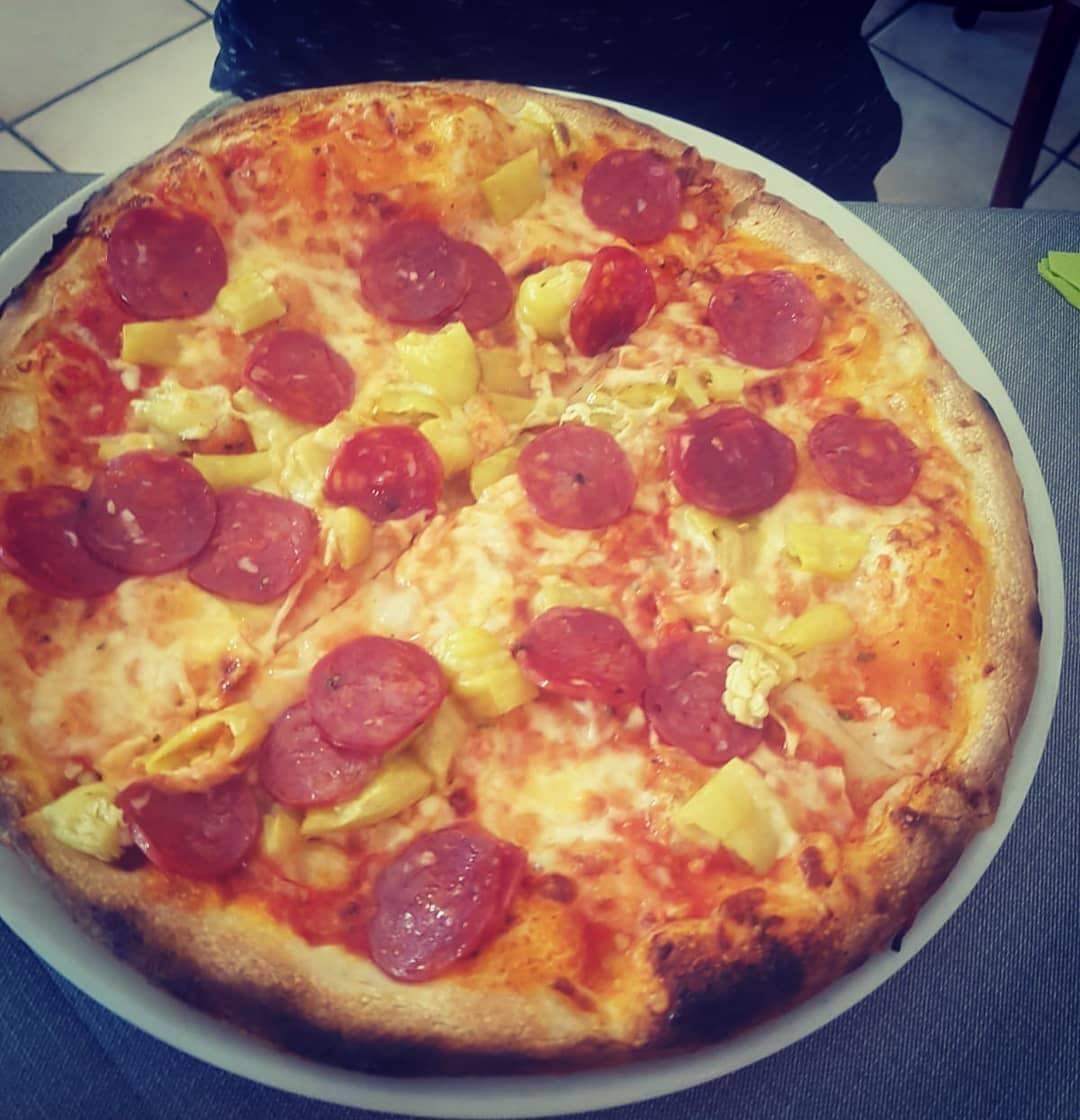Pepperoni: (367, 818, 525, 980), (639, 615, 773, 775), (301, 627, 451, 764), (72, 441, 223, 577), (107, 762, 264, 889), (188, 476, 325, 608), (508, 592, 649, 720), (0, 471, 135, 604), (96, 191, 228, 324), (658, 402, 801, 524), (508, 419, 644, 539), (258, 689, 384, 806), (236, 318, 362, 430), (354, 219, 475, 332), (320, 419, 448, 525), (703, 267, 828, 370), (800, 404, 917, 510), (577, 142, 686, 246), (564, 245, 659, 356), (440, 231, 520, 337)
Pineapple: (673, 753, 793, 870), (300, 745, 435, 848), (713, 581, 846, 675), (140, 694, 274, 783), (34, 768, 134, 866), (110, 378, 241, 452), (248, 805, 359, 890), (112, 312, 247, 374), (613, 363, 753, 421), (385, 320, 482, 397), (520, 255, 598, 347), (478, 137, 553, 222), (215, 269, 300, 336), (184, 439, 282, 497), (684, 513, 770, 579), (407, 700, 473, 786), (780, 519, 873, 580), (317, 506, 380, 577), (476, 342, 542, 400), (466, 440, 526, 503), (420, 416, 482, 473), (373, 386, 452, 423)
Pizza: (0, 75, 1043, 1072)
